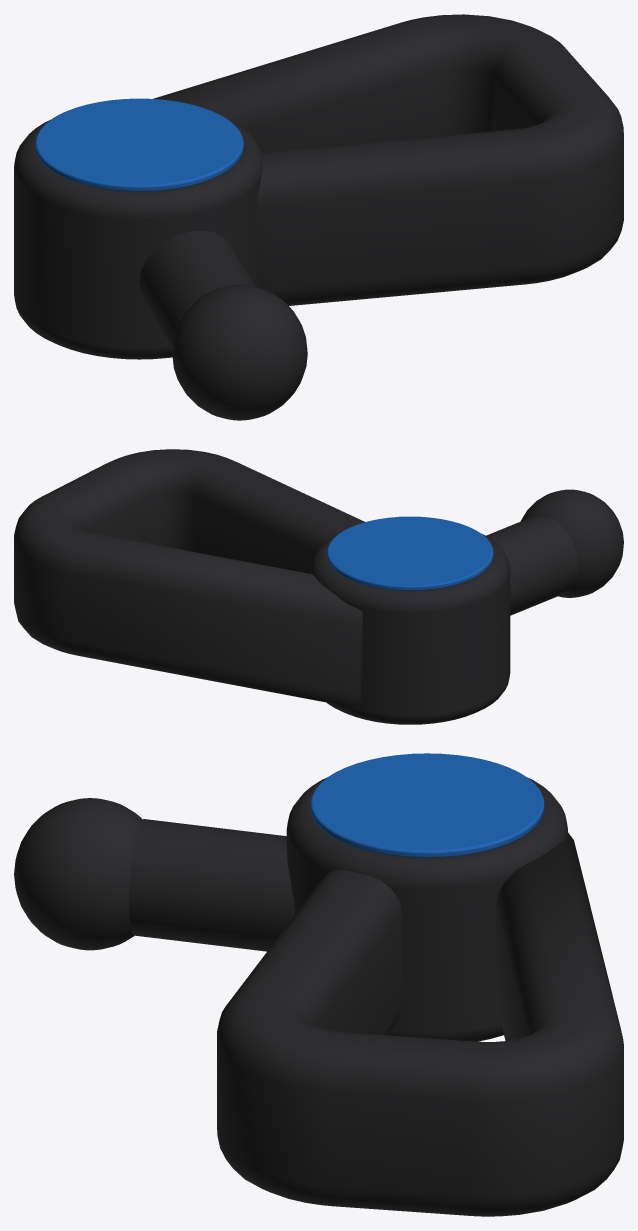
Rendered from theragun-pro-plus_v002.glb.
3 renders of one model, top to bottom at view 1: azimuth 30°, elevation 25°; view 2: azimuth 150°, elevation 25°; view 3: azimuth 270°, elevation 25°, orthographic. The views are drawn at different scales.
Visible parts, largest first — view 1: theragun-pro-plus_body, theragun-pro-plus_body.001, theragun-pro-plus_blue, theragun-pro-plus_body.003, theragun-pro-plus_body.002; view 2: theragun-pro-plus_body, theragun-pro-plus_body.001, theragun-pro-plus_blue, theragun-pro-plus_body.002, theragun-pro-plus_body.003; view 3: theragun-pro-plus_body, theragun-pro-plus_body.001, theragun-pro-plus_blue, theragun-pro-plus_body.002, theragun-pro-plus_body.003.
Boxes of the visible parts, x1,y1,x2,y2 form: theragun-pro-plus_body: (153,14,623,305); theragun-pro-plus_body.001: (14,120,263,359); theragun-pro-plus_blue: (35,98,243,191); theragun-pro-plus_body.003: (172,285,307,420); theragun-pro-plus_body.002: (139,230,255,349); theragun-pro-plus_body: (14,449,364,706); theragun-pro-plus_body.001: (310,533,510,724); theragun-pro-plus_blue: (326,516,493,590); theragun-pro-plus_body.002: (486,515,578,615); theragun-pro-plus_body.003: (521,489,623,597); theragun-pro-plus_body: (217,832,623,1216); theragun-pro-plus_body.001: (286,777,567,1041); theragun-pro-plus_blue: (310,753,544,857); theragun-pro-plus_body.002: (129,819,294,951); theragun-pro-plus_body.003: (14,798,141,950).
Size of the model in its own units: 0.2479 by 0.0725 by 0.2081.
